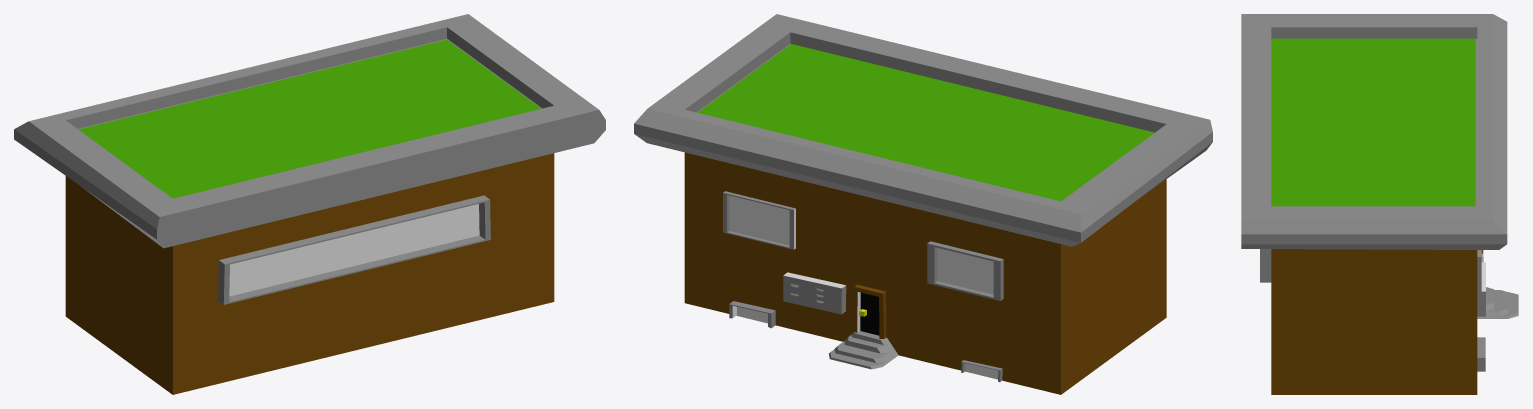
File: huis_3 b.fbx
The picture shows the model from 3 angles, left to right: view 1: azimuth 30°, elevation 25°; view 2: azimuth 150°, elevation 25°; view 3: azimuth 270°, elevation 25°; orthographic projection. The views are drawn at different scales.
Parts seen in each view (by area): view 1: Cube; view 2: Cube; view 3: Cube.
Boxes of the visible parts, bbox=[...] form: Cube: bbox=[14, 14, 605, 394]; Cube: bbox=[634, 14, 1212, 394]; Cube: bbox=[1241, 14, 1518, 394].
Bounding box in the file's own units: 3305 × 1367 × 1820.
